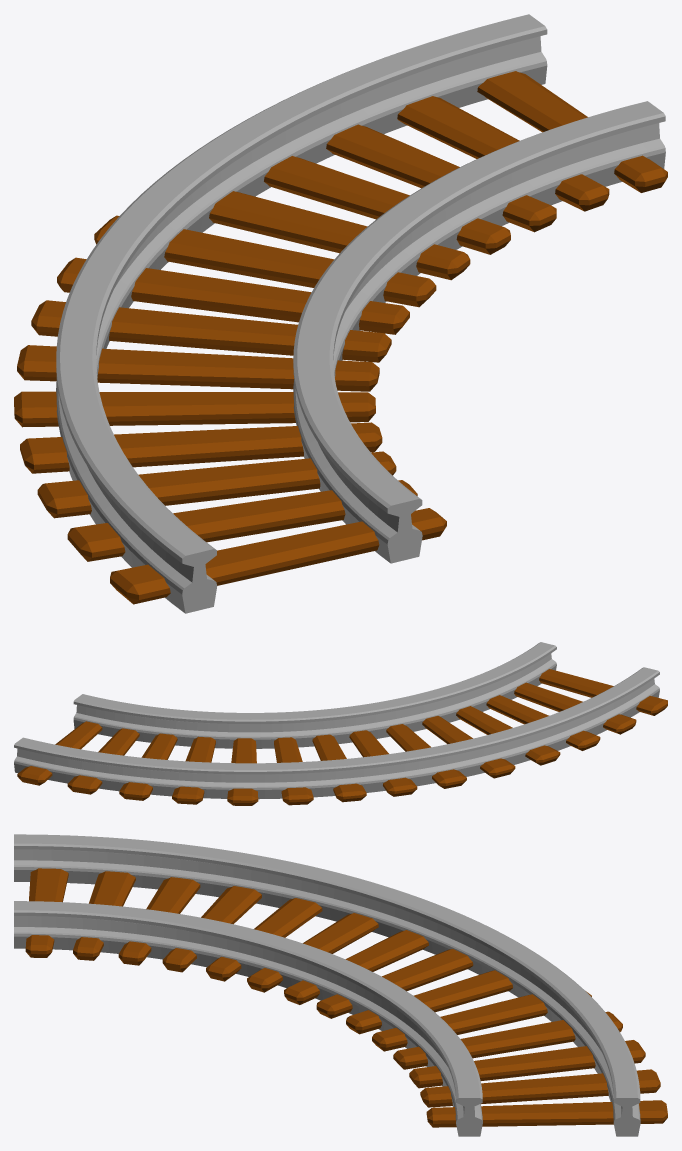
The model's file is RayUzun90lik.fbx.
3 renders of one model, top to bottom at view 1: azimuth 30°, elevation 25°; view 2: azimuth 150°, elevation 25°; view 3: azimuth 270°, elevation 25°, orthographic. The views are drawn at different scales.
Parts seen in each view (by area): view 1: Railroad113.001; view 2: Railroad113.001; view 3: Railroad113.001.
Boxes of the visible parts, x1=… form: Railroad113.001: x1=14, y1=14, x2=667, y2=613; Railroad113.001: x1=14, y1=642, x2=667, y2=805; Railroad113.001: x1=14, y1=834, x2=667, y2=1136.
Bounding box in the file's own units: 2.8 × 0.1816 × 2.8.
